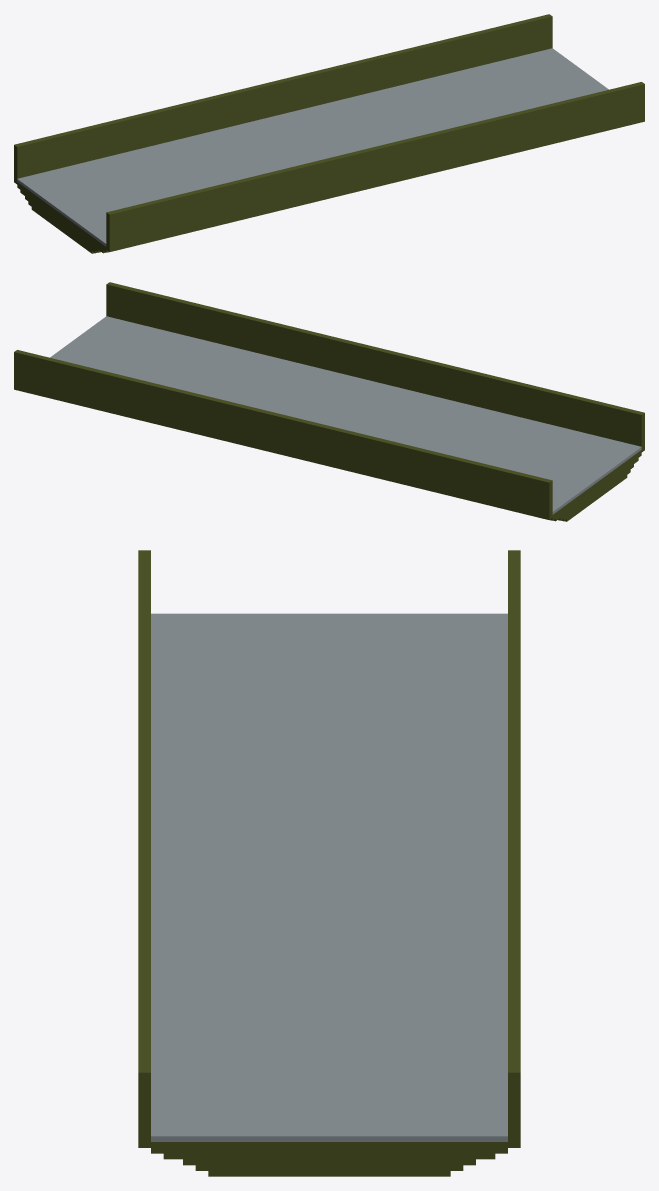
The model's file is apc_hull_belly.glb.
3 renders of one model, top to bottom at view 1: azimuth 30°, elevation 25°; view 2: azimuth 150°, elevation 25°; view 3: azimuth 270°, elevation 25°, orthographic. The views are drawn at different scales.
Parts seen in each view (by area): view 1: body:compound; view 2: body:compound; view 3: body:compound.
Boxes of the visible parts, x1=… form: body:compound: x1=14, y1=14, x2=644, y2=253; body:compound: x1=14, y1=282, x2=644, y2=521; body:compound: x1=138, y1=550, x2=520, y2=1176.
Size of the model in its own units: 6.06 by 0.5625 by 1.88.
